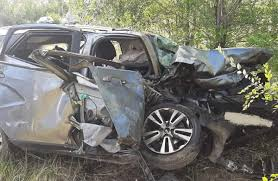car: (3, 18, 245, 175)
